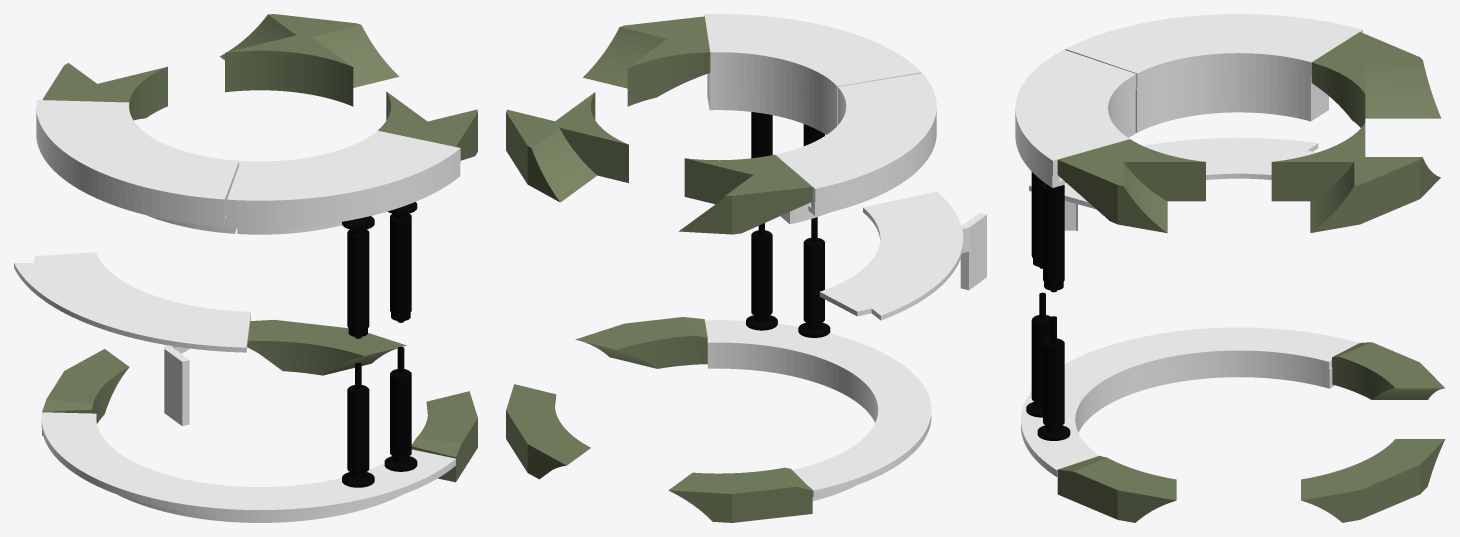
File: punzones.glb
The picture shows the model from 3 angles, left to right: view 1: azimuth 30°, elevation 25°; view 2: azimuth 150°, elevation 25°; view 3: azimuth 270°, elevation 25°; orthographic projection. The views are drawn at different scales.
Parts seen in each view (by area): view 1: Asset3DLoader.sceneRoot; view 2: Asset3DLoader.sceneRoot; view 3: Asset3DLoader.sceneRoot.
Part boxes in pixels (<box>): Asset3DLoader.sceneRoot: <box>14,14,477,522</box>; Asset3DLoader.sceneRoot: <box>506,14,986,522</box>; Asset3DLoader.sceneRoot: <box>1015,14,1445,522</box>.
Size of the model in its own units: 419 by 342 by 395.
